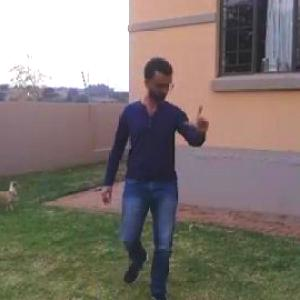land_hand: (181, 96, 220, 136)
